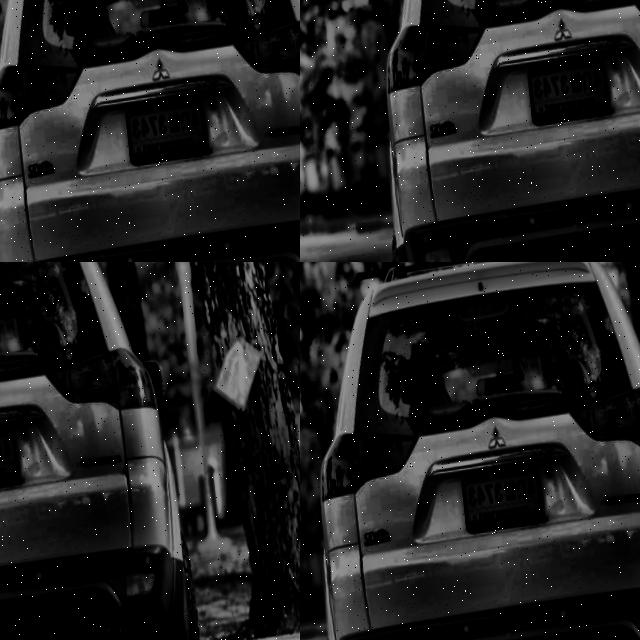license-plate: (456, 464, 544, 540)
